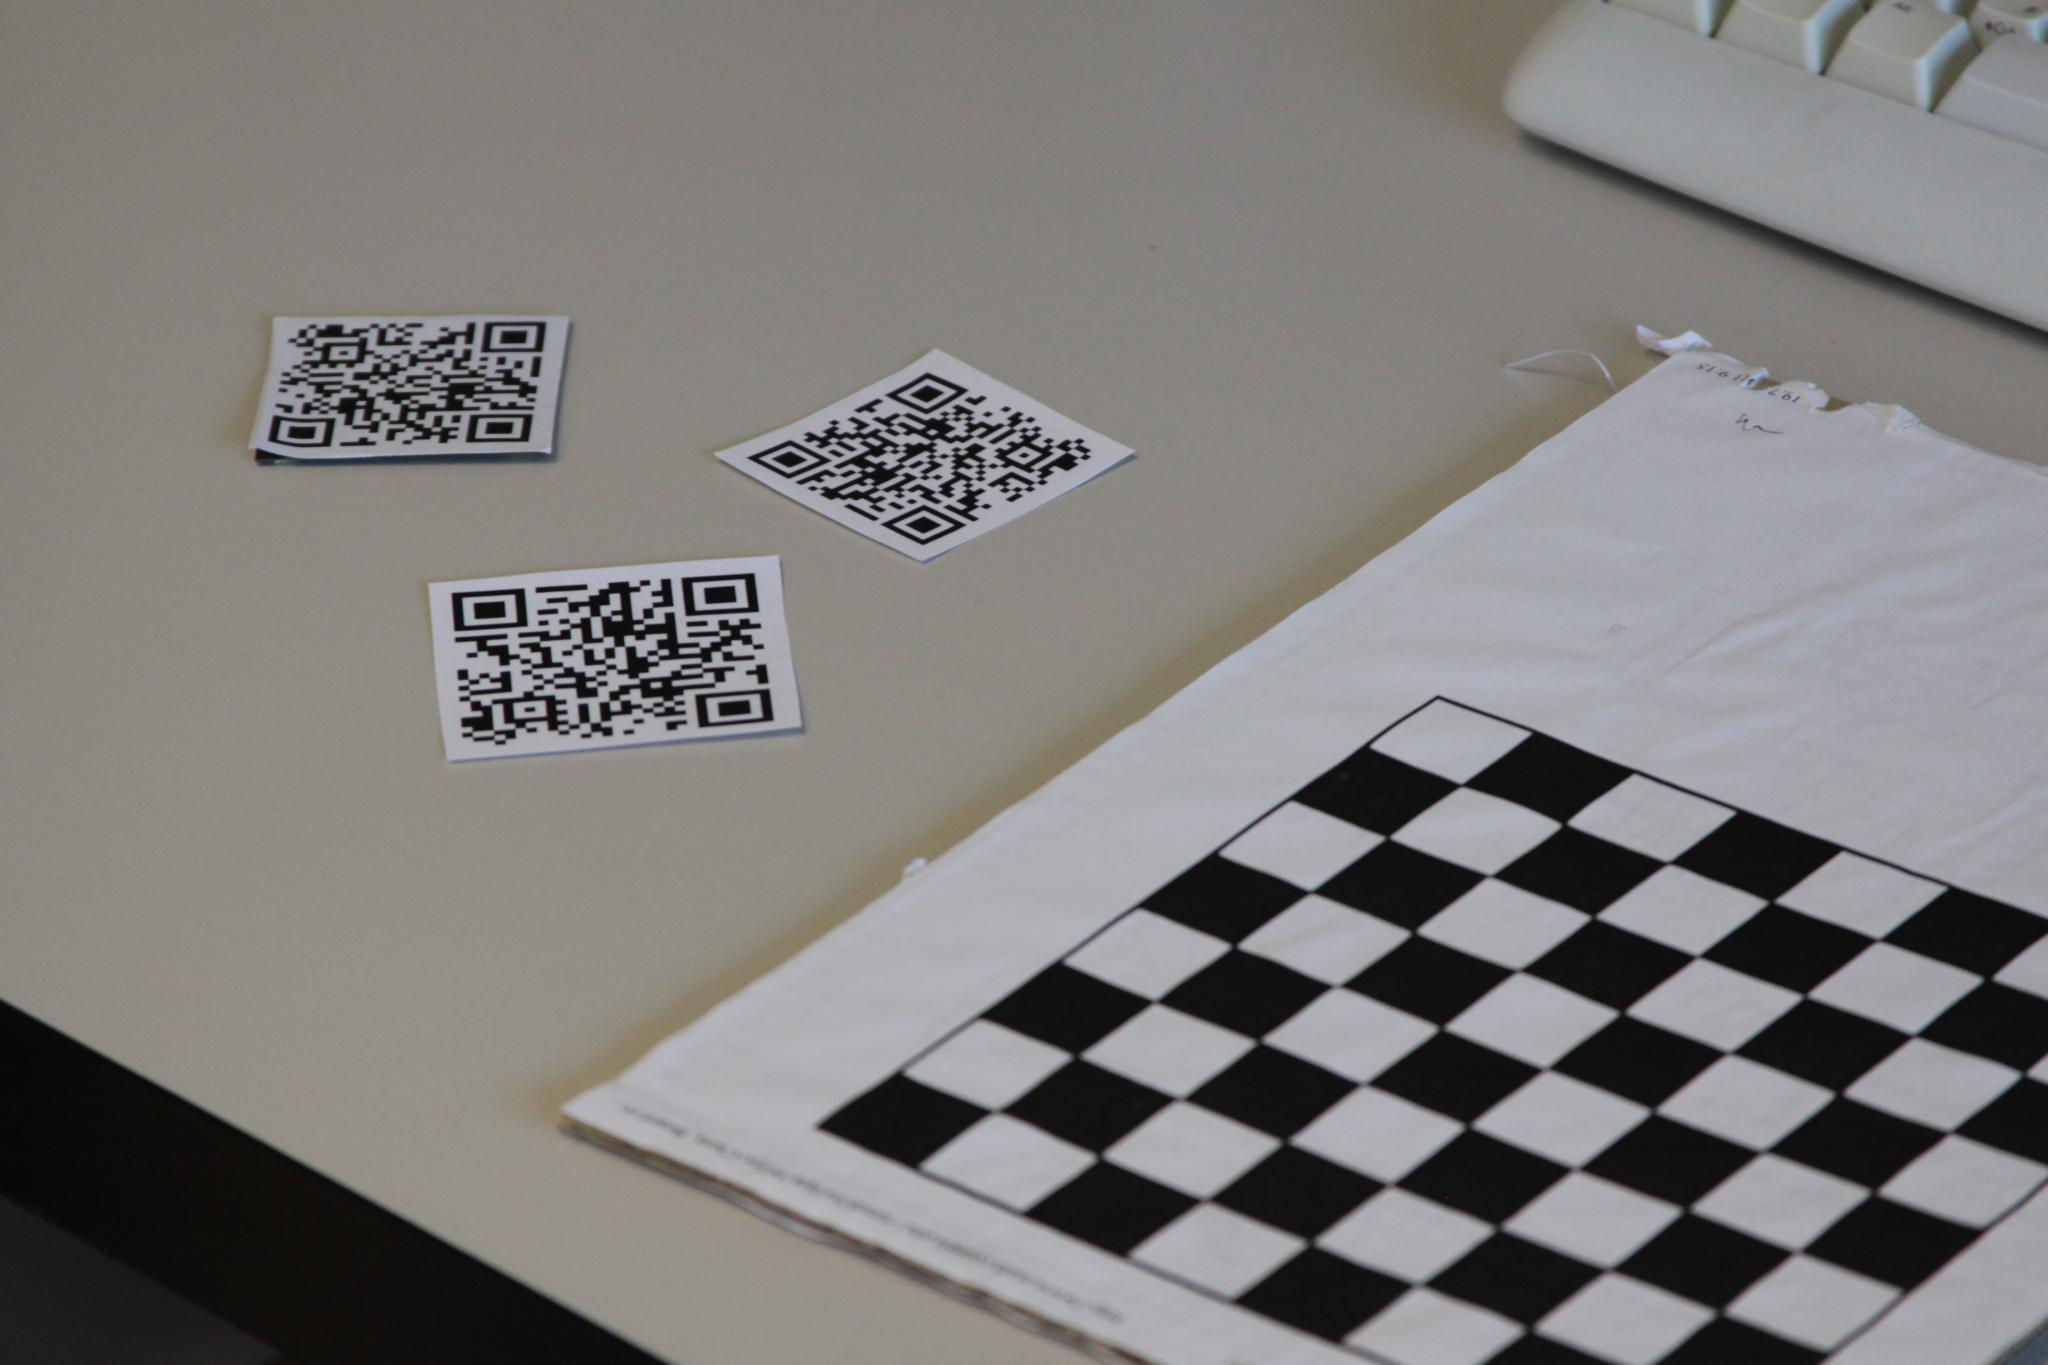Finder pattern: (866, 487, 975, 551), (668, 561, 767, 628), (440, 577, 538, 635), (687, 681, 784, 739), (746, 428, 841, 486), (886, 367, 978, 417), (457, 405, 547, 452), (270, 407, 344, 459), (480, 315, 551, 363)
